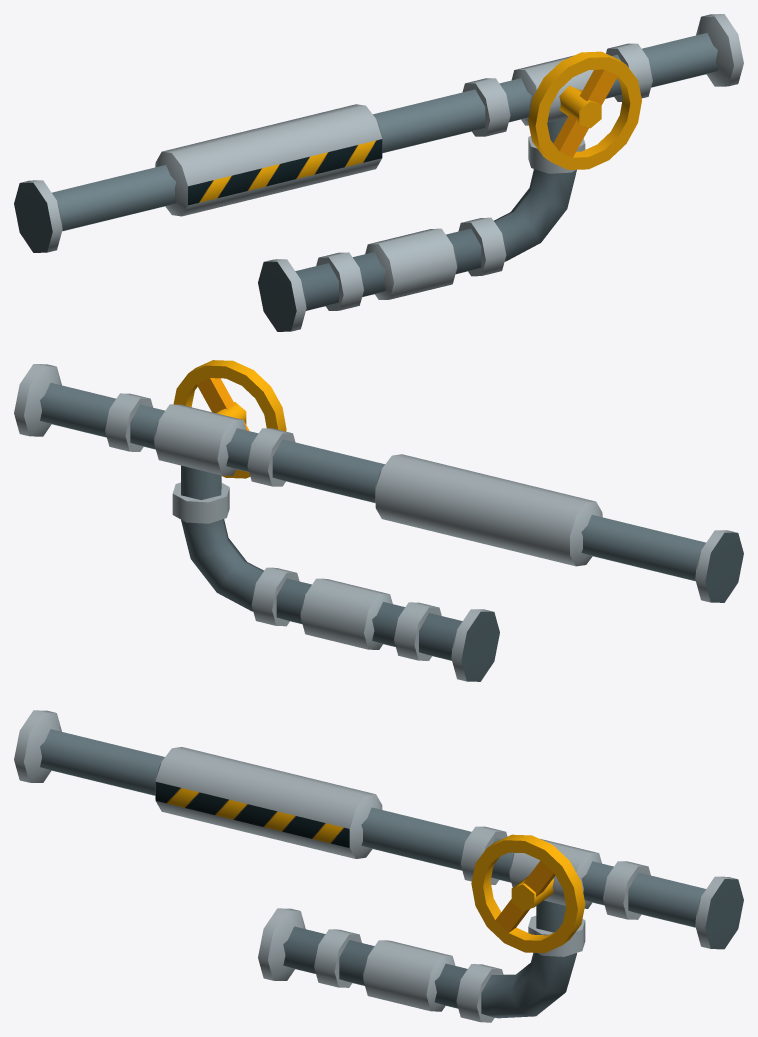
The model's file is Pipe_003.fbx.
3 views of the same model, one above another, from view 1: azimuth 30°, elevation 25°; view 2: azimuth 150°, elevation 25°; view 3: azimuth 330°, elevation 25° (orthographic).
Visible parts, largest first — view 1: Pipe_003; view 2: Pipe_003; view 3: Pipe_003.
Part boxes in pixels (x1=…): Pipe_003: x1=14, y1=14, x2=743, y2=331; Pipe_003: x1=14, y1=360, x2=743, y2=681; Pipe_003: x1=14, y1=710, x2=743, y2=1022.
Size of the model in its own units: 262 by 34.98 by 83.24.
